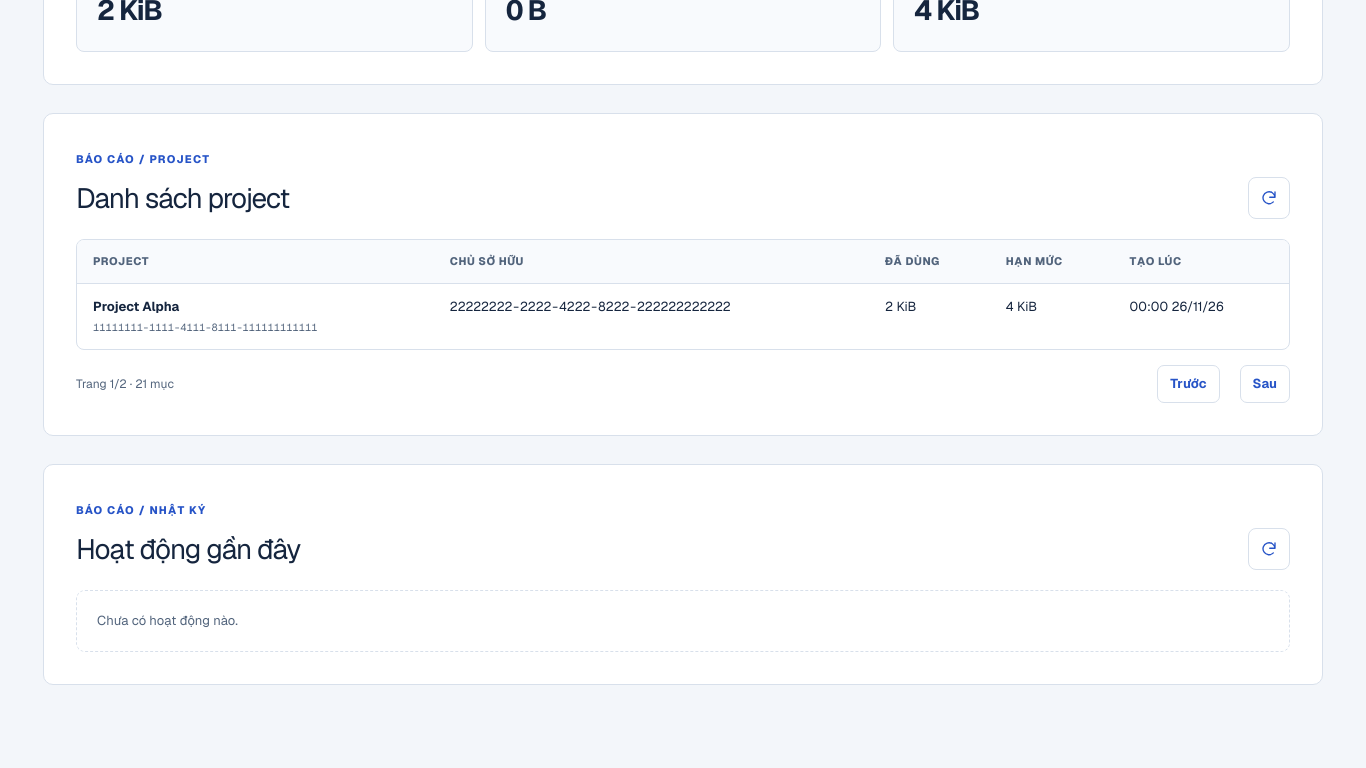
Test: shows only read-only report data and pages projects independently
This screenshot has width=1366, height=768.
(page scrolled)
Expected: the text "Project Alpha" is shown, top-left (93, 298), bottom-right (179, 315)
Click the button "Sau" at (1265, 384), box top-left (1240, 365), bottom-right (1290, 403)
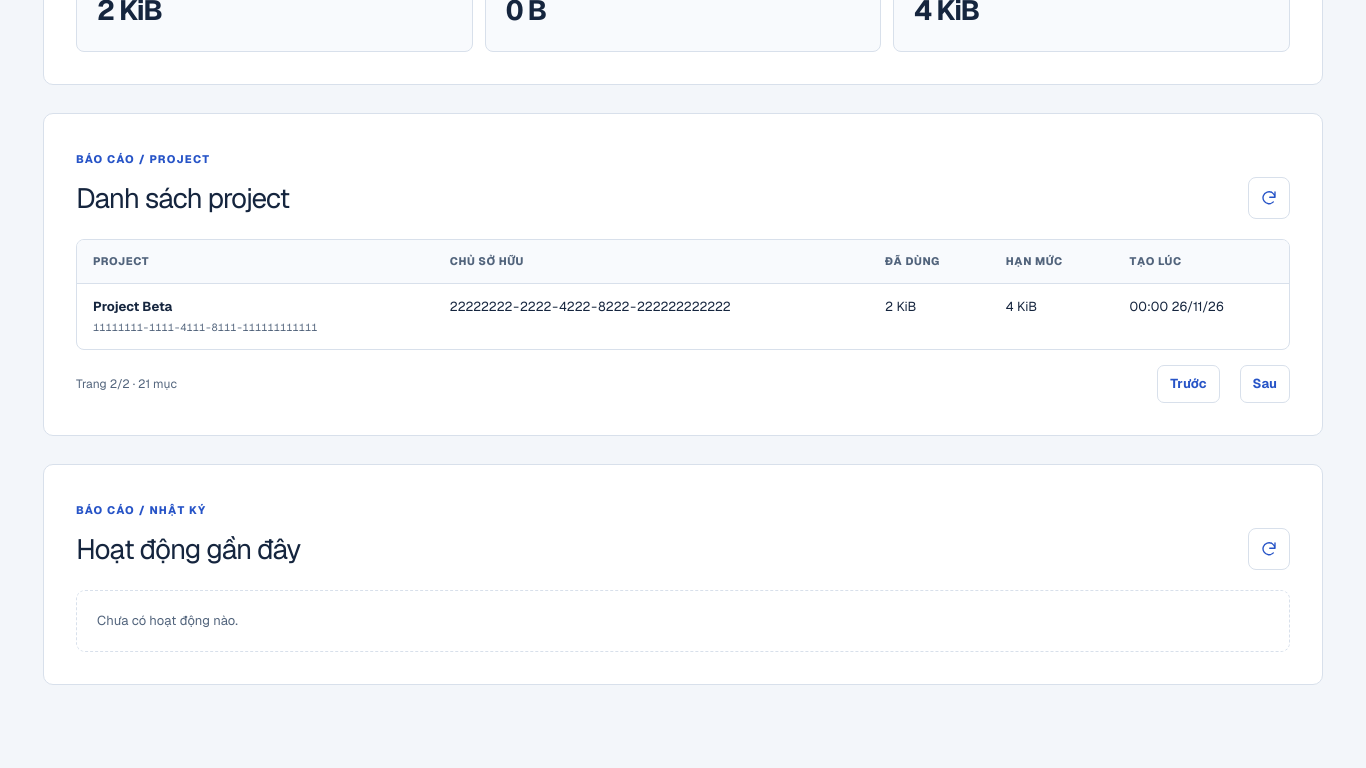
Now the text "Project Beta" is shown, box top-left (93, 298), bottom-right (172, 315)
